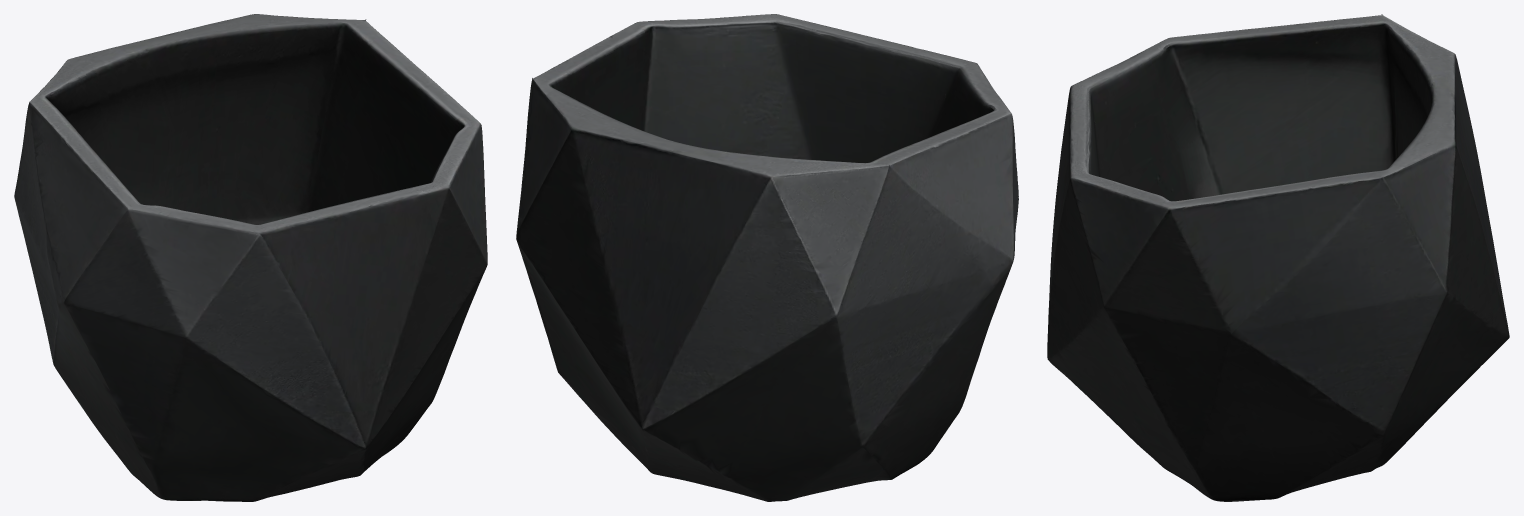
The model's file is facetada.glb.
3 views of the same model, side by side, from view 1: azimuth 30°, elevation 25°; view 2: azimuth 150°, elevation 25°; view 3: azimuth 270°, elevation 25° (orthographic). The views are drawn at different scales.
Visible parts, largest first — view 1: tripo_node_3557b2d5-683f-4c30-a0e4-28e4806c279c; view 2: tripo_node_3557b2d5-683f-4c30-a0e4-28e4806c279c; view 3: tripo_node_3557b2d5-683f-4c30-a0e4-28e4806c279c.
Part boxes in pixels (left/top/right/bottom): tripo_node_3557b2d5-683f-4c30-a0e4-28e4806c279c: left=14, top=14, right=487, bottom=501; tripo_node_3557b2d5-683f-4c30-a0e4-28e4806c279c: left=516, top=14, right=1018, bottom=501; tripo_node_3557b2d5-683f-4c30-a0e4-28e4806c279c: left=1047, top=14, right=1509, bottom=501.
Bounding box in the file's own units: 0.9754 × 0.7831 × 0.9362.
1 material, 1 textured.
